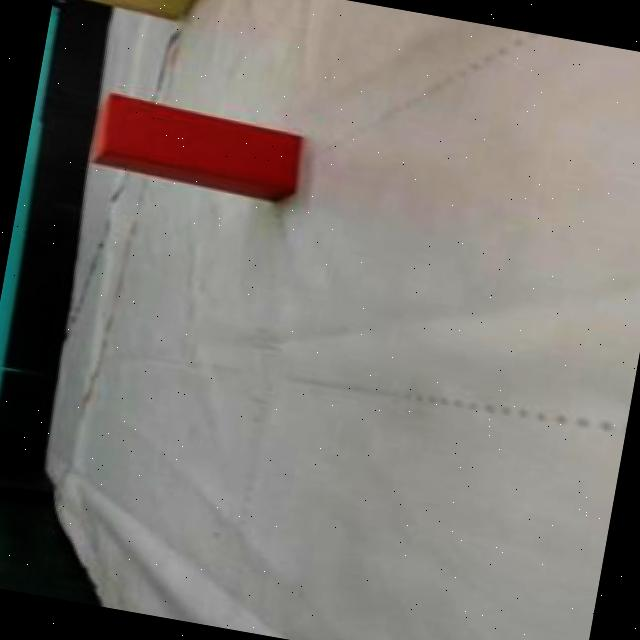redbox: (90, 90, 305, 206)
